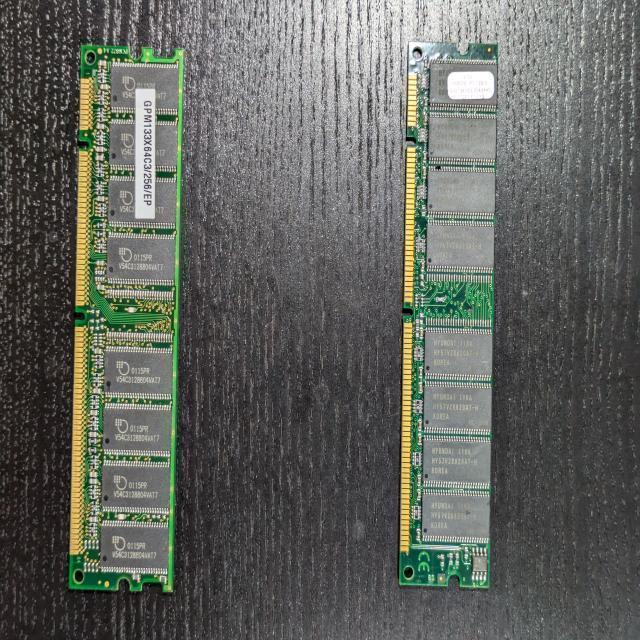RAM: (68, 44, 185, 594), (400, 39, 498, 590)
